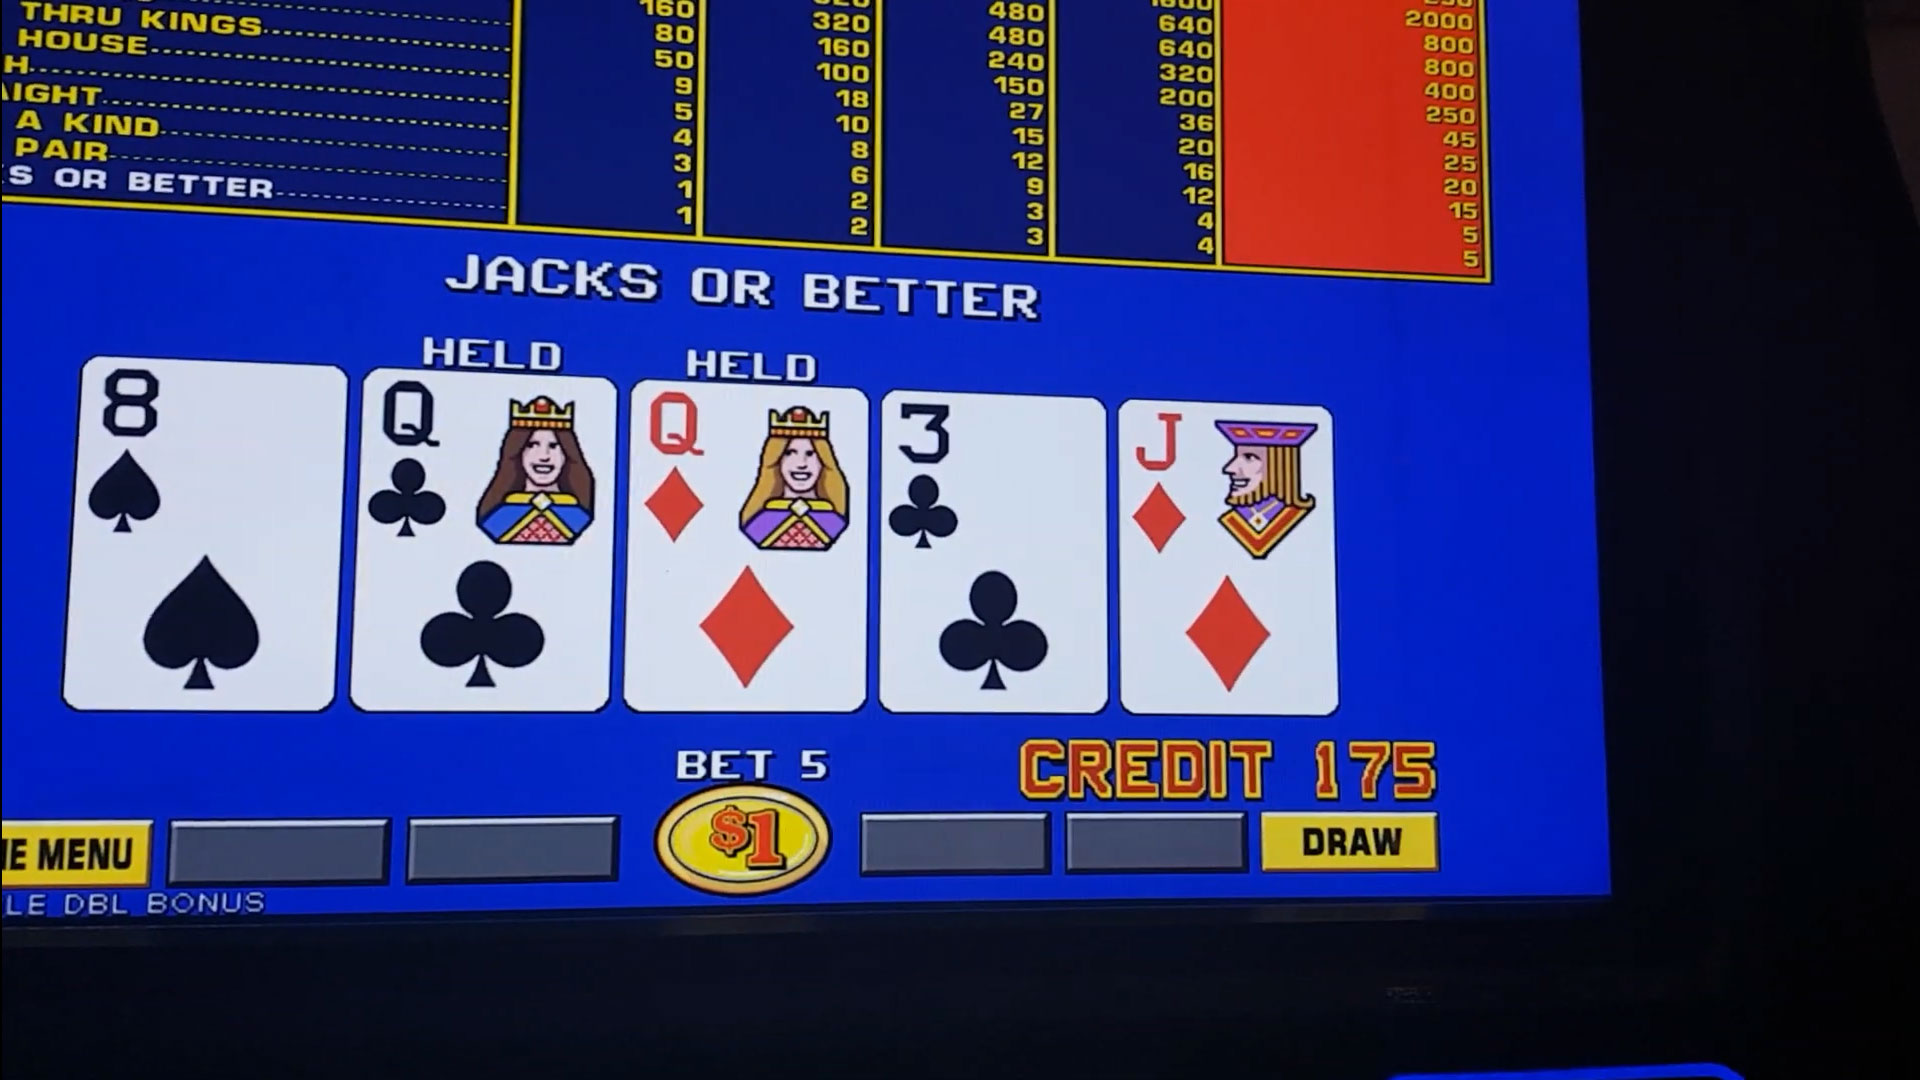C3: (884, 400, 1106, 564)
CQ: (371, 380, 608, 556)
DJ: (1122, 410, 1328, 566)
DQ: (632, 392, 862, 563)
S8: (80, 373, 335, 545)
